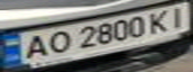0: (127, 14, 151, 39), (112, 17, 133, 43)
2: (75, 24, 100, 51)
8: (93, 20, 115, 47)
A: (15, 33, 51, 61)
I: (163, 2, 193, 29)
K: (145, 7, 175, 35)
O: (42, 28, 72, 56)
